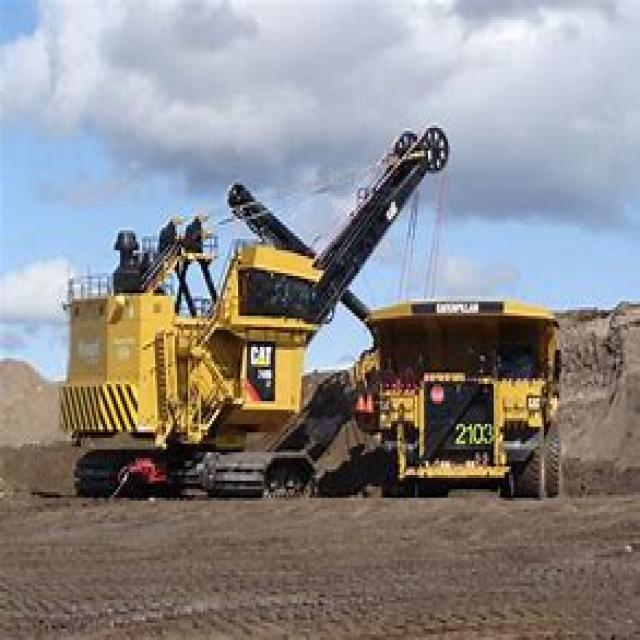dump_truck: (365, 279, 590, 529)
